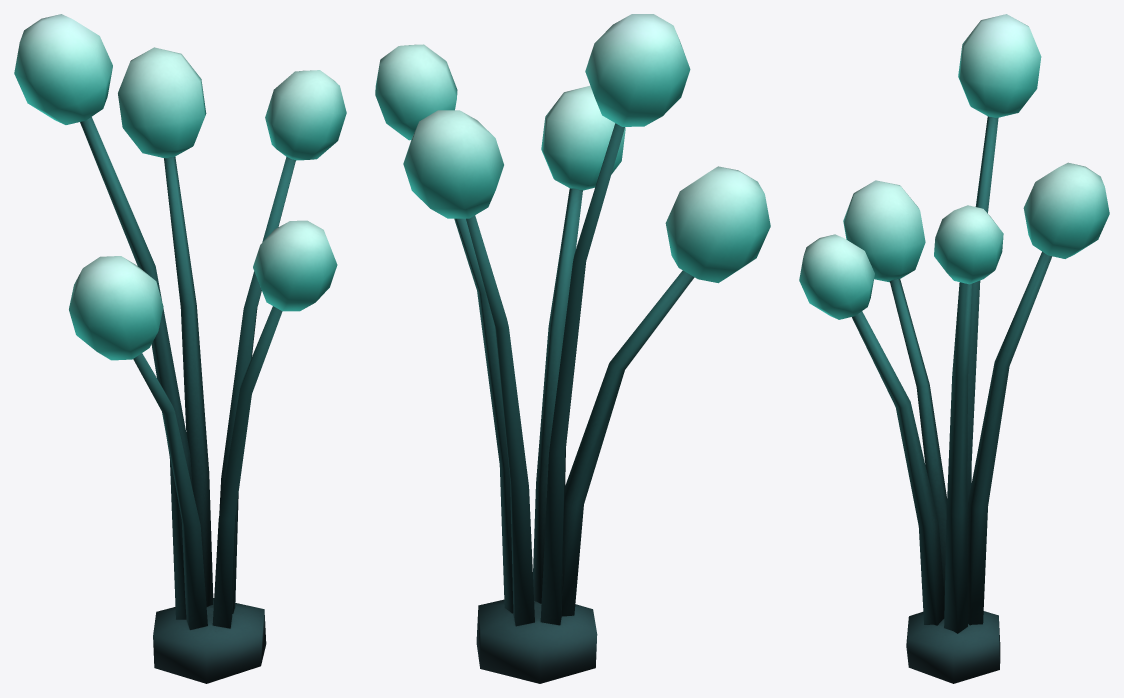
The model's file is Alga_Brillante.fbx.
3 views of the same model, side by side, from view 1: azimuth 30°, elevation 25°; view 2: azimuth 150°, elevation 25°; view 3: azimuth 270°, elevation 25° (orthographic). The views are drawn at different scales.
Parts seen in each view (by area): view 1: Malla; view 2: Malla; view 3: Malla.
Boxes of the visible parts, left/top/right/bottom form: Malla: left=14, top=14, right=346, bottom=683; Malla: left=375, top=14, right=770, bottom=683; Malla: left=799, top=14, right=1109, bottom=683.
Size of the model in its own units: 0.5827 by 1.17 by 0.5559.
Materials: 1 (1 with a texture image).
